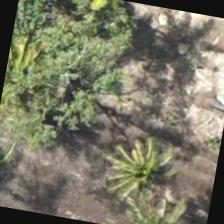Kelapa_Sawit: (90, 126, 195, 223), (0, 30, 66, 129), (0, 122, 44, 212)
